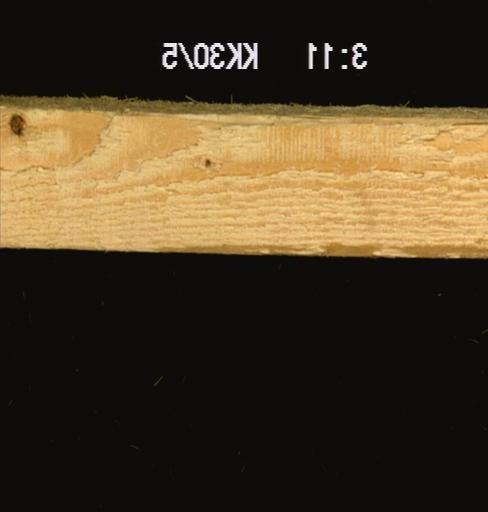dry_knot: (6, 109, 28, 138)
small_knot: (200, 153, 213, 172)
wave: (182, 98, 482, 125)
